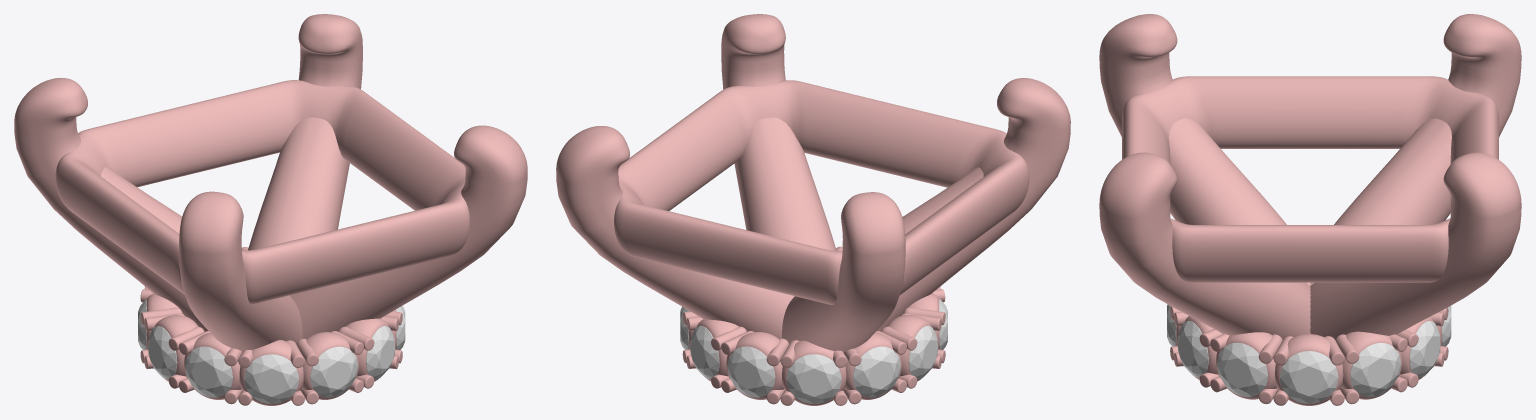
File: ASSCHER.glb
3 renders of one model, left to right at view 1: azimuth 30°, elevation 25°; view 2: azimuth 150°, elevation 25°; view 3: azimuth 270°, elevation 25°, orthographic. The views are drawn at different scales.
Parts seen in each view (by area): view 1: radiant.002, hidden halo.009, hidden halo - diamonds.009; view 2: radiant.002, hidden halo.009, hidden halo - diamonds.009; view 3: radiant.002, hidden halo - diamonds.009, hidden halo.009.
Part boxes in pixels (left/top/right/bottom): radiant.002: left=14, top=14, right=527, bottom=351; hidden halo.009: left=140, top=247, right=402, bottom=405; hidden halo - diamonds.009: left=138, top=299, right=405, bottom=404; radiant.002: left=556, top=14, right=1070, bottom=352; hidden halo.009: left=682, top=246, right=945, bottom=405; hidden halo - diamonds.009: left=680, top=298, right=947, bottom=404; radiant.002: left=1099, top=14, right=1521, bottom=339; hidden halo - diamonds.009: left=1167, top=304, right=1451, bottom=404; hidden halo.009: left=1170, top=306, right=1448, bottom=405.
Size of the model in its own units: 5.57 by 4.36 by 5.57.
